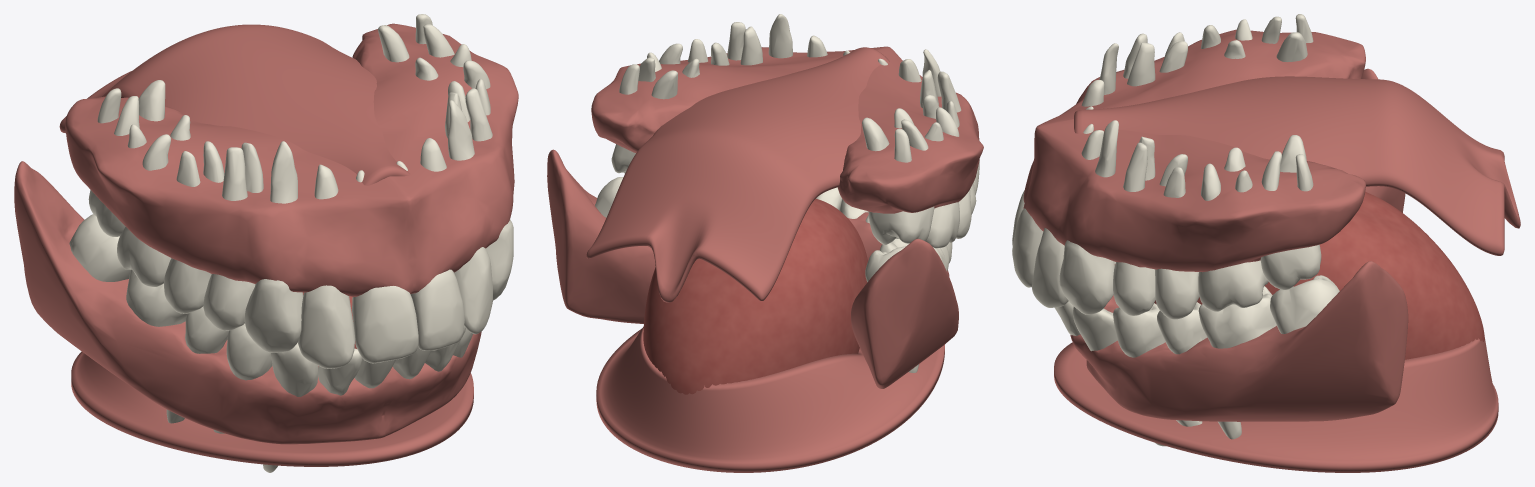
File: oral-unit.glb
The picture shows the model from 3 angles, left to right: view 1: azimuth 30°, elevation 25°; view 2: azimuth 150°, elevation 25°; view 3: azimuth 270°, elevation 25°; orthographic projection. The views are drawn at different scales.
Visible parts, largest first — view 1: UPPER_GINGIVA, UPPER_DENTITION, LOWER_GINGIVA, PALATE, ORAL_FLOOR, LOWER_DENTITION; view 2: PALATE, ORAL_FLOOR, TONGUE, UPPER_GINGIVA, LOWER_GINGIVA, UPPER_DENTITION, LOWER_DENTITION; view 3: UPPER_GINGIVA, PALATE, LOWER_GINGIVA, UPPER_DENTITION, ORAL_FLOOR, TONGUE, LOWER_DENTITION.
Part boxes in pixels (x1,y1,x2,y2): UPPER_GINGIVA: (65,23,518,296); UPPER_DENTITION: (88,14,513,368); LOWER_GINGIVA: (14,161,481,444); PALATE: (59,24,410,185); ORAL_FLOOR: (71,351,473,466); LOWER_DENTITION: (69,214,472,472); PALATE: (586,47,889,302); ORAL_FLOOR: (596,327,944,472); TONGUE: (643,199,867,394); UPPER_GINGIVA: (591,46,983,213); LOWER_GINGIVA: (547,149,958,388); UPPER_DENTITION: (611,14,979,248); LOWER_DENTITION: (595,177,952,372); UPPER_GINGIVA: (1023,29,1365,272); PALATE: (1074,76,1520,255); LOWER_GINGIVA: (1070,68,1408,421); UPPER_DENTITION: (1012,14,1321,319); ORAL_FLOOR: (1054,338,1498,472); TONGUE: (1154,192,1484,359); LOWER_DENTITION: (1055,261,1339,446).
Bounding box in the file's own units: 0.0735 × 0.0581 × 0.0778.
Materials: 3 (1 with a texture image).
